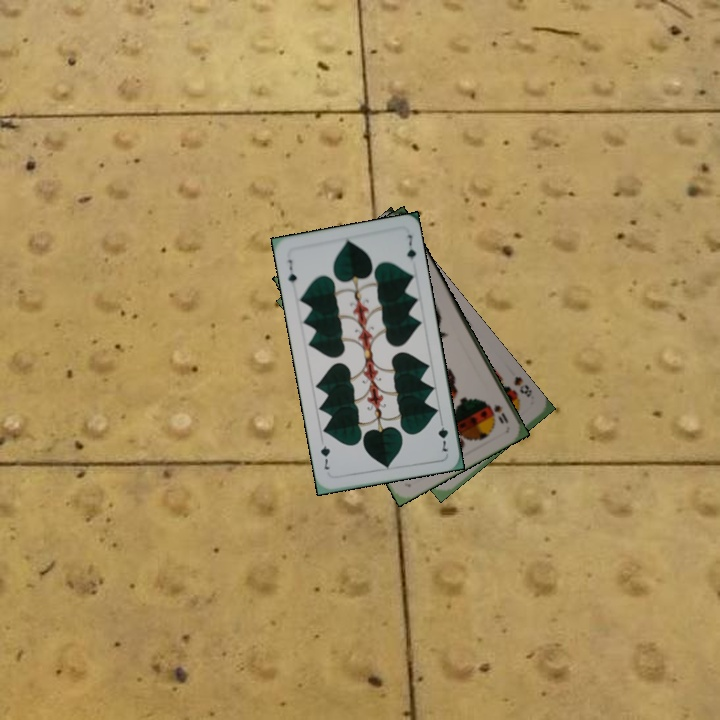G7: (434, 414, 451, 455), (281, 256, 299, 291)
S8: (510, 372, 534, 400)
SO: (484, 399, 511, 427)
